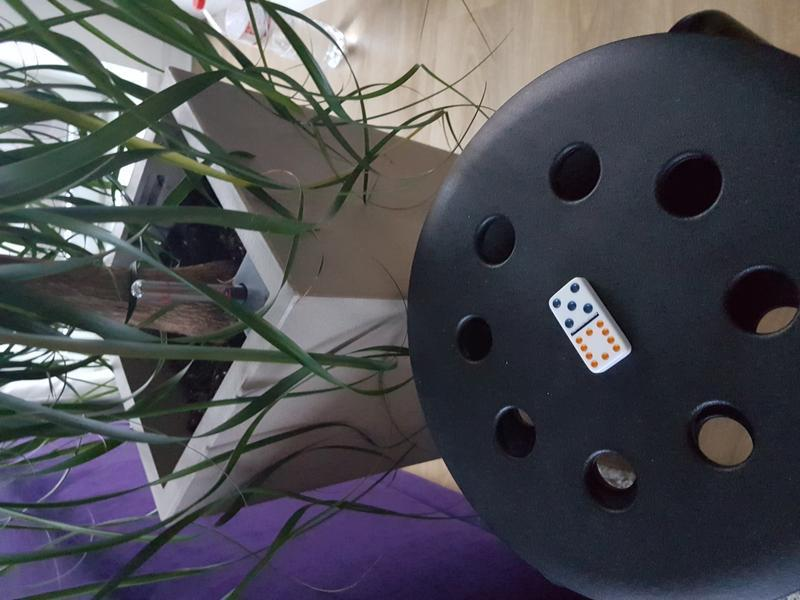Domino: (547, 274, 634, 375)
